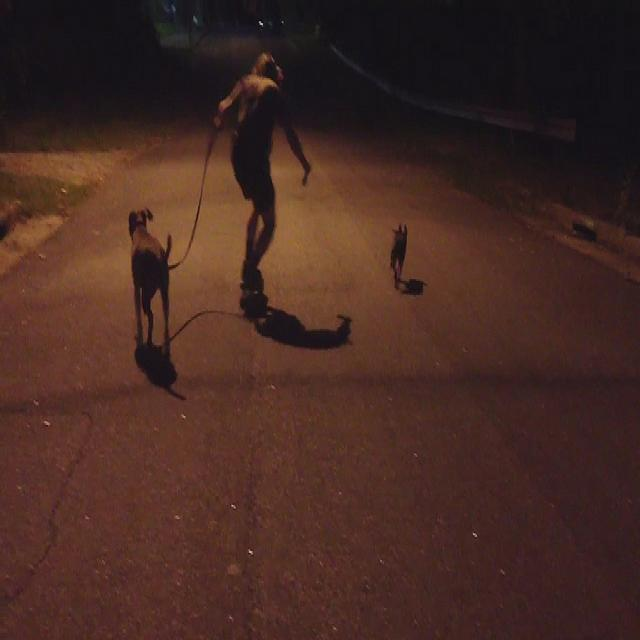Dog: (116, 218, 198, 348), (396, 237, 418, 319)
